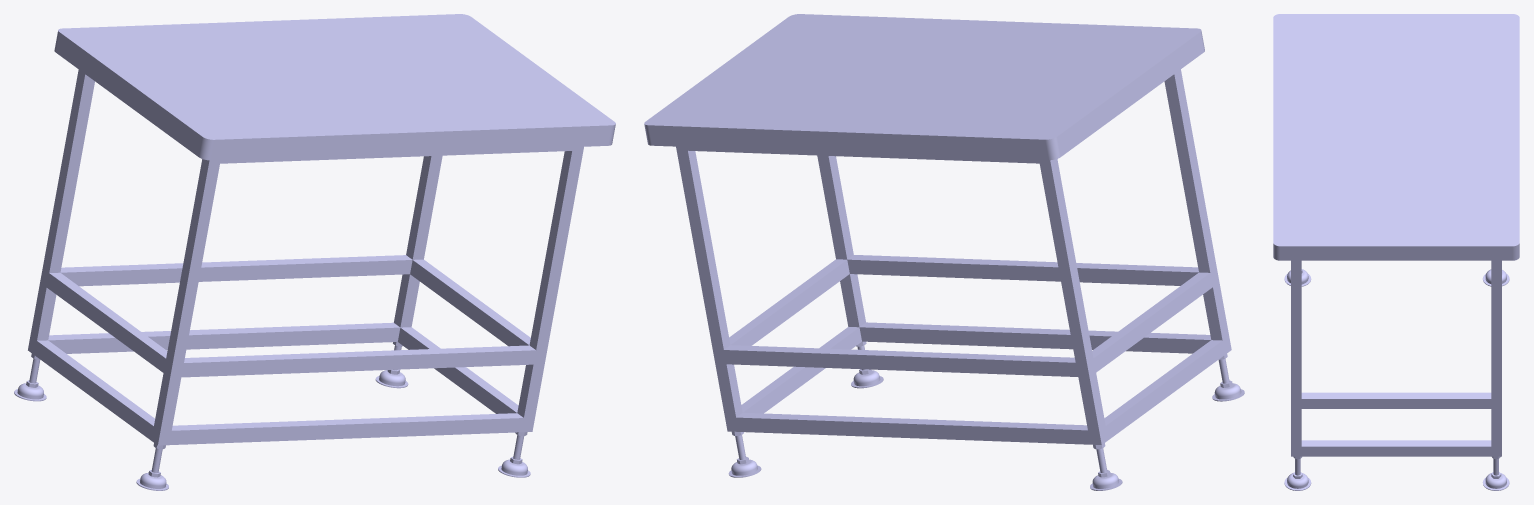
Rendered from shelf.fbx.
3 views of the same model, side by side, from view 1: azimuth 30°, elevation 25°; view 2: azimuth 150°, elevation 25°; view 3: azimuth 270°, elevation 25° (orthographic). The views are drawn at different scales.
Visible parts, largest first — view 1: Part2\Part2.1, Part1\Part1.1, ___-1\NFJN16-150.3, ___-1\NFJN16-150.4, ___-1\NFJN16-150.2; view 2: Part2\Part2.1, Part1\Part1.1, ___-1\NFJN16-150.2, ___-1\NFJN16-150.1, ___-1\NFJN16-150.3; view 3: Part2\Part2.1, Part1\Part1.1, ___-1\NFJN16-150.4, ___-1\NFJN16-150.1.
Boxes of the visible parts, bbox=[...] form: Part2\Part2.1: bbox=[54, 14, 615, 160]; Part1\Part1.1: bbox=[28, 69, 583, 445]; ___-1\NFJN16-150.3: bbox=[136, 443, 168, 490]; ___-1\NFJN16-150.4: bbox=[498, 432, 530, 477]; ___-1\NFJN16-150.2: bbox=[14, 353, 46, 401]; Part2\Part2.1: bbox=[644, 14, 1204, 160]; Part1\Part1.1: bbox=[676, 69, 1231, 444]; ___-1\NFJN16-150.2: bbox=[1090, 443, 1122, 490]; ___-1\NFJN16-150.1: bbox=[728, 431, 761, 477]; ___-1\NFJN16-150.3: bbox=[1212, 354, 1244, 401]; Part2\Part2.1: bbox=[1273, 14, 1519, 260]; Part1\Part1.1: bbox=[1291, 260, 1501, 456]; ___-1\NFJN16-150.4: bbox=[1284, 456, 1311, 490]; ___-1\NFJN16-150.1: bbox=[1483, 456, 1509, 490].
Size of the model in its own units: 1218 by 690 by 1062.
